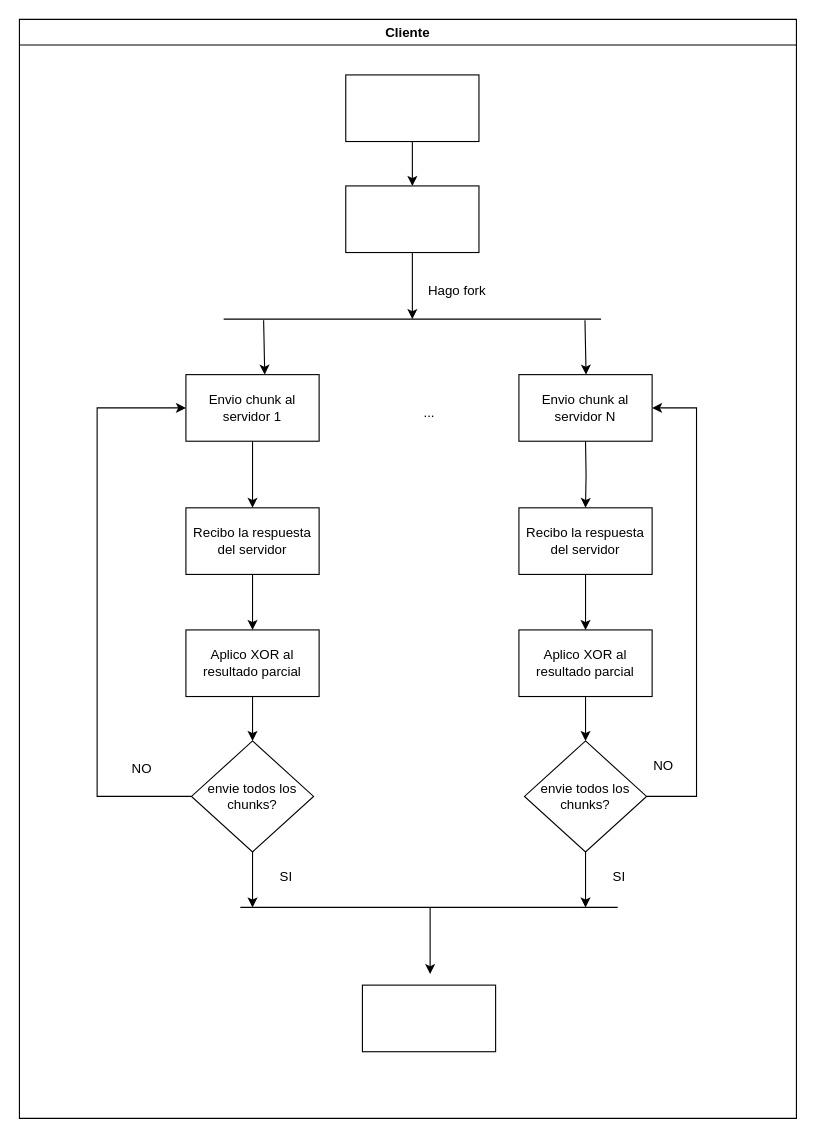
This 816x1138 diagram has some shape labels left out. The centre of each missing label's shape, as x and y in pixels:
"Asigno un chunk a cada proceso" goes at (412,219).
"Divido el archivo en N chunks" goes at (412,108).
"Joineo los procesos y aplico XOR a los resultados parciales de cada proceso" goes at (428,1018).
